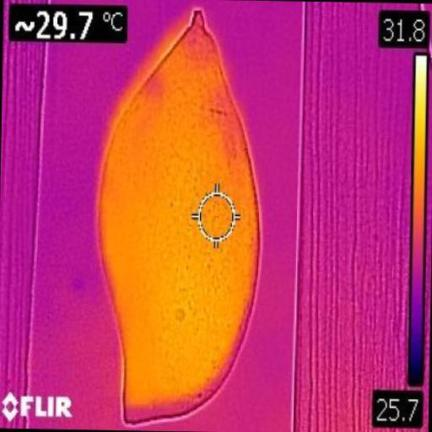mango: (99, 10, 259, 423)
